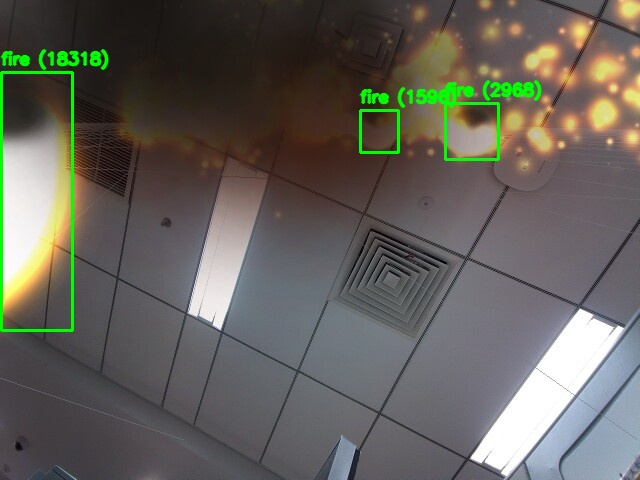fire: (1, 72, 72, 330), (445, 103, 498, 159), (360, 110, 398, 152)
